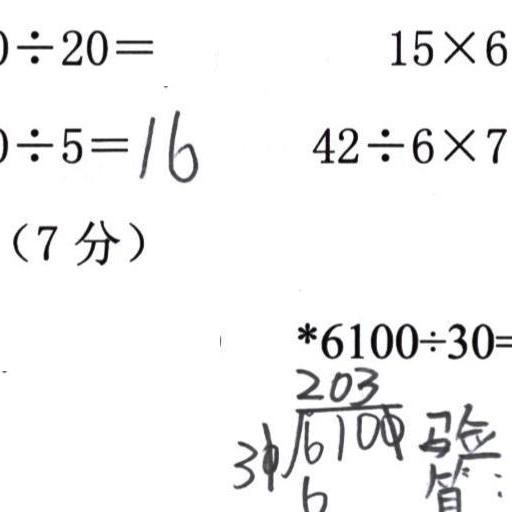ans: (132, 104, 198, 183)
